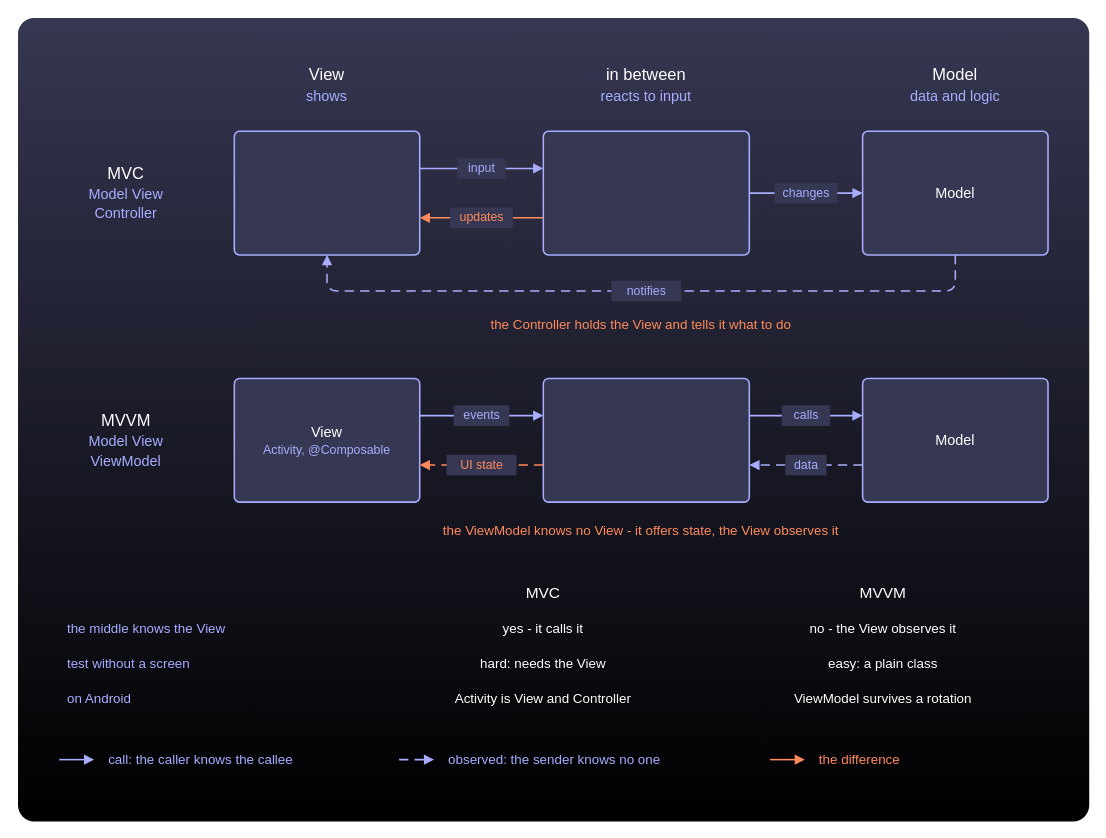
The diagram is 1106 pixels wide and 838 high, and some of its shapes have lost their labels. The shapes that lost their labels are listed below. From the top down, each one's centre as x and y in pixels, then its label:
At point (326, 192): "View layout, widgets".
At point (646, 192): "Controller handles input".
At point (646, 439): "ViewModel UI state".
